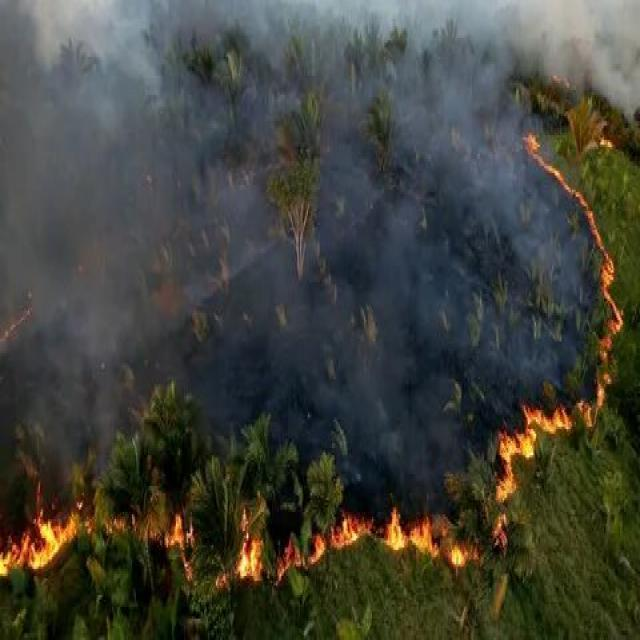Fire: (0, 466, 503, 614), (499, 123, 640, 578)
Smoke: (0, 0, 478, 446)
